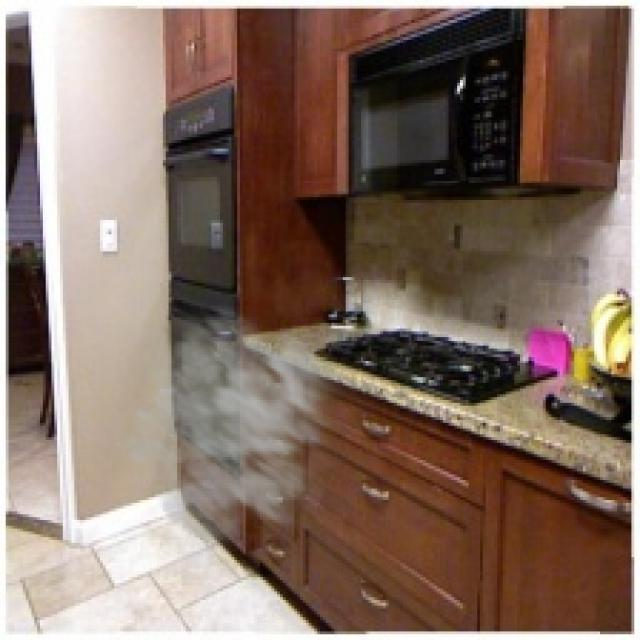Smoke: (114, 294, 377, 563)
